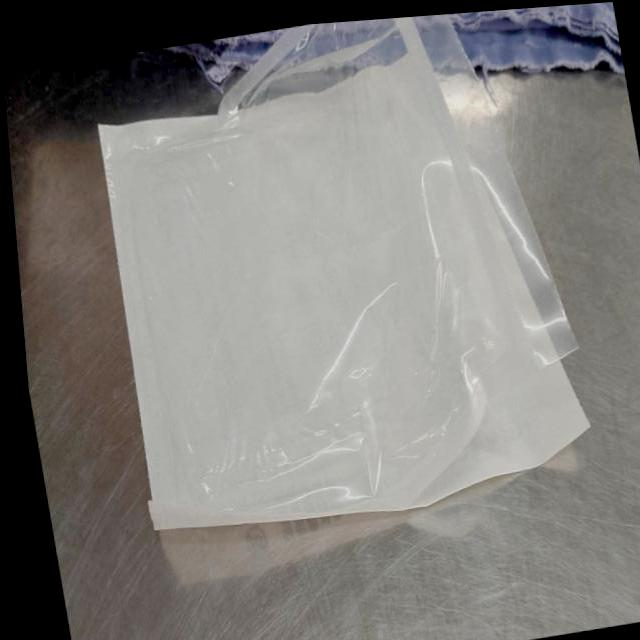Infectious: (96, 15, 590, 540)
Sharps: (474, 62, 501, 109)
